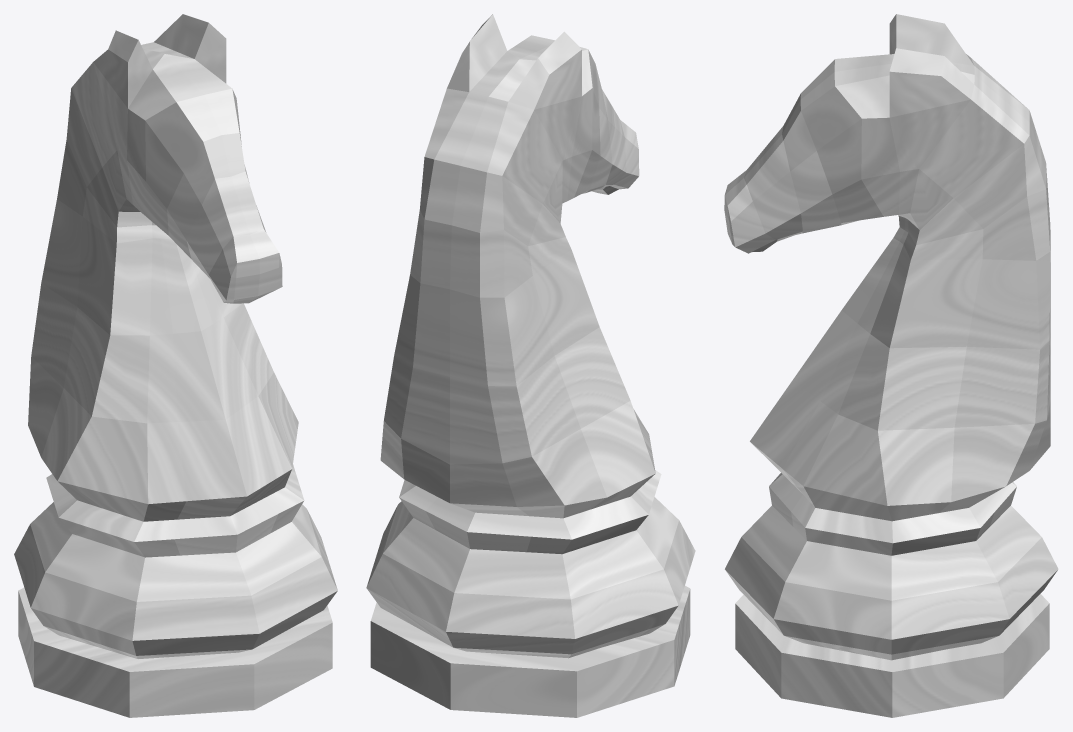
Rendered from chessKnight512_2.glb.
3 renders of one model, left to right at view 1: azimuth 30°, elevation 25°; view 2: azimuth 150°, elevation 25°; view 3: azimuth 270°, elevation 25°, orthographic.
Parts seen in each view (by area): view 1: Knight.001; view 2: Knight.001; view 3: Knight.001.
Part boxes in pixels (bbox=[...]): Knight.001: bbox=[14, 14, 337, 717]; Knight.001: bbox=[366, 14, 695, 717]; Knight.001: bbox=[724, 14, 1058, 717].
Bounding box in the file's own units: 1.99 × 4.05 × 1.98.
1 material, 1 textured.
